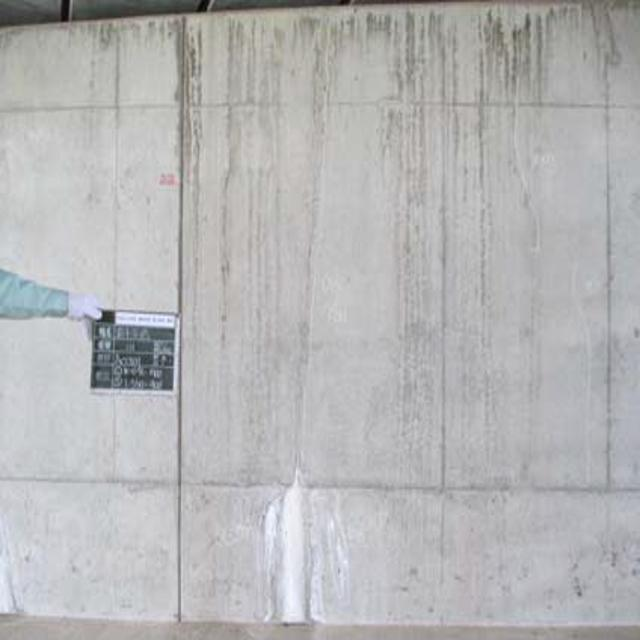freelime: (266, 463, 354, 626)
